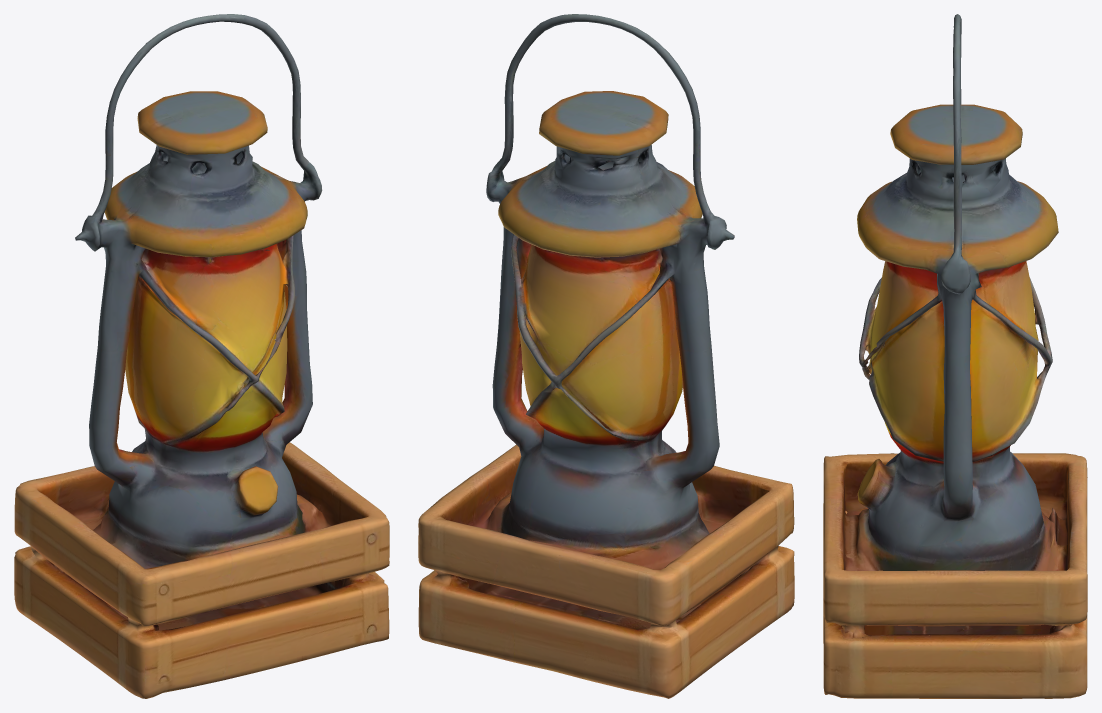
File: lantern.glb
The picture shows the model from 3 angles, left to right: view 1: azimuth 30°, elevation 25°; view 2: azimuth 150°, elevation 25°; view 3: azimuth 270°, elevation 25°; orthographic projection.
Size of the model in its own units: 0.888 by 2 by 0.7846.
Materials: 1 (1 with a texture image).
